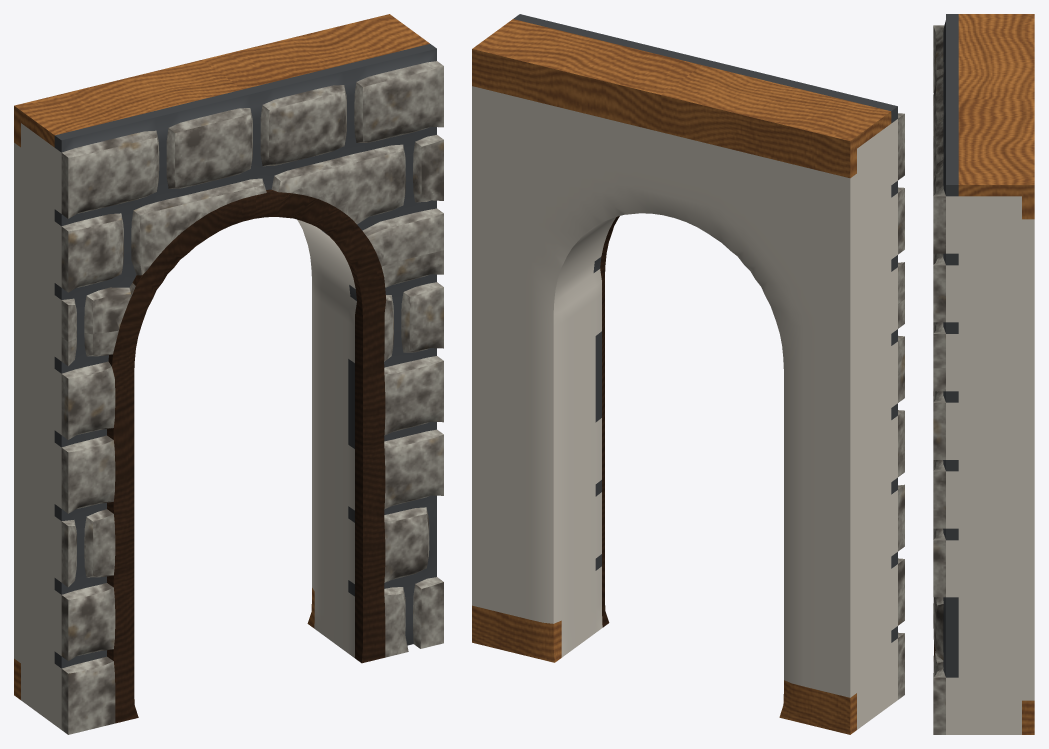
Rendered from wall_out_stone_doorway.glb.
3 views of the same model, side by side, from view 1: azimuth 30°, elevation 25°; view 2: azimuth 150°, elevation 25°; view 3: azimuth 270°, elevation 25° (orthographic). The views are drawn at different scales.
Parts seen in each view (by area): view 1: town_wall_out_stone_doorway; view 2: town_wall_out_stone_doorway; view 3: town_wall_out_stone_doorway.
Part boxes in pixels (x1,y1,x2,y2): town_wall_out_stone_doorway: [14, 14, 443, 734]; town_wall_out_stone_doorway: [472, 14, 904, 734]; town_wall_out_stone_doorway: [933, 14, 1034, 734].
Size of the model in its own units: 1 by 1.5 by 0.25.
3 materials, 1 textured.
